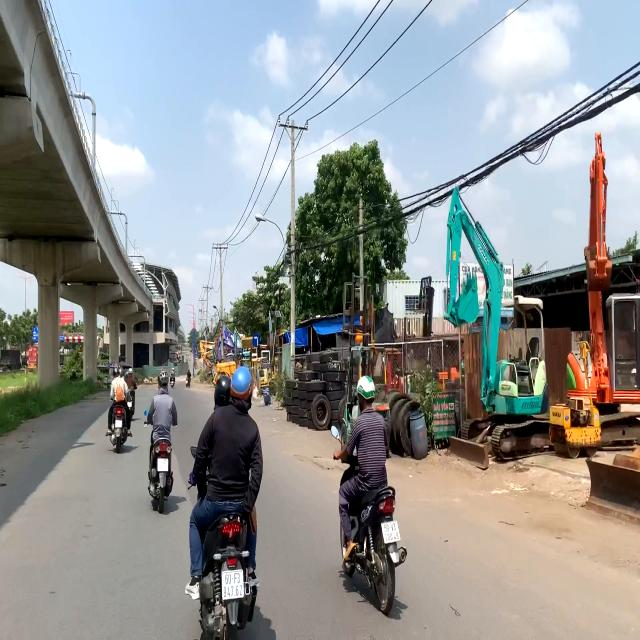R.301e: (252, 333, 260, 348)
